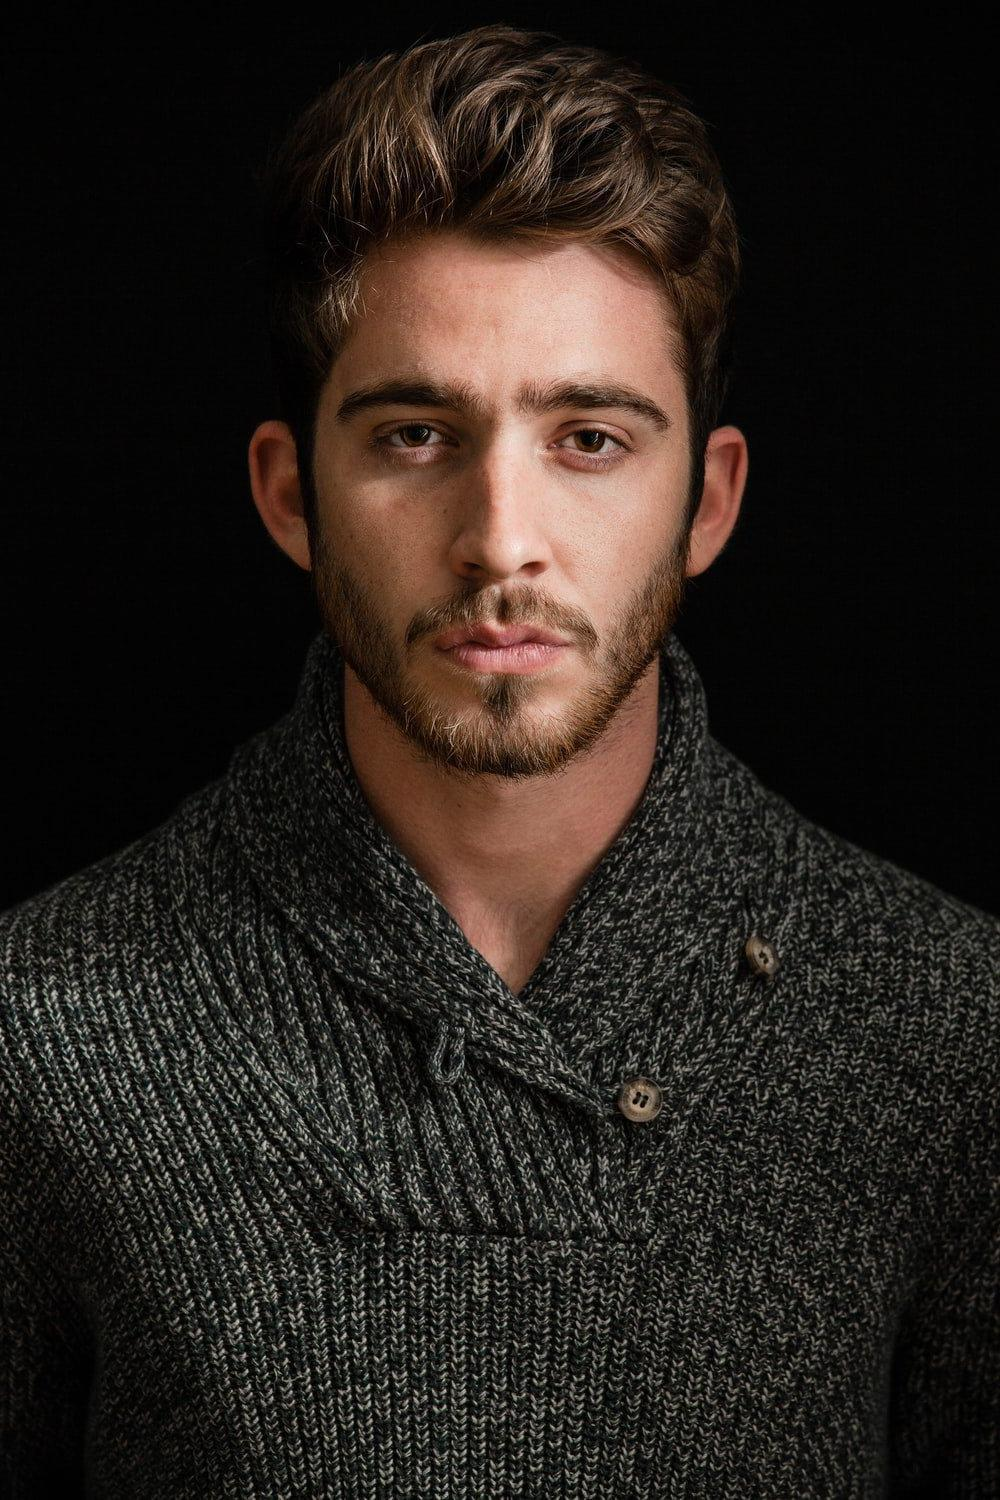Sober: (338, 265, 691, 737)
